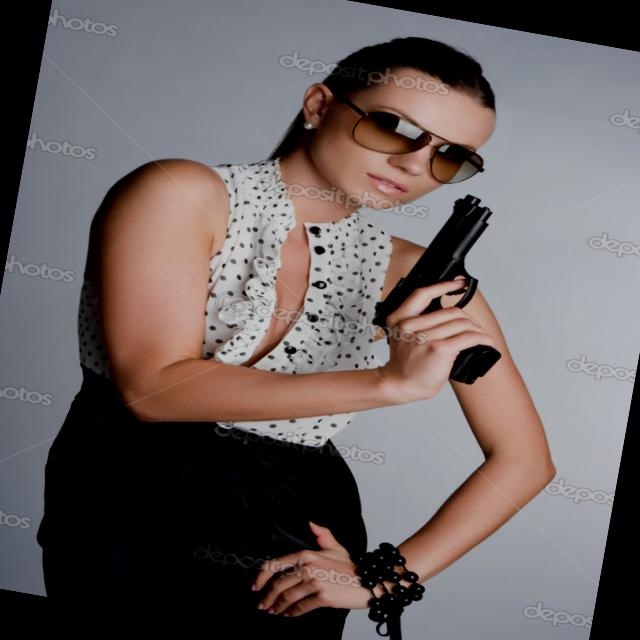handgun: (354, 178, 524, 398)
